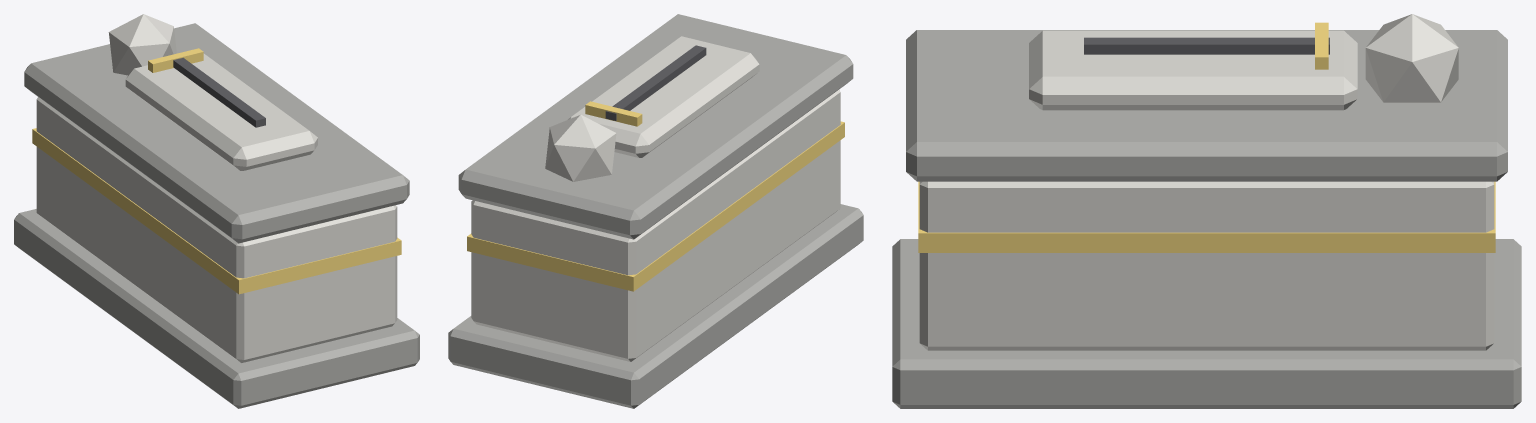
File: Sarcophagus.glb
The picture shows the model from 3 angles, left to right: view 1: azimuth 30°, elevation 25°; view 2: azimuth 150°, elevation 25°; view 3: azimuth 270°, elevation 25°; orthographic projection. The views are drawn at different scales.
Parts seen in each view (by area): view 1: Sarcophagus; view 2: Sarcophagus; view 3: Sarcophagus.
Part boxes in pixels (x1,y1,x2,y2): Sarcophagus: (14, 14, 419, 408); Sarcophagus: (448, 14, 863, 408); Sarcophagus: (892, 14, 1521, 408).
Size of the model in its own units: 1.1 by 1.35 by 2.3.
